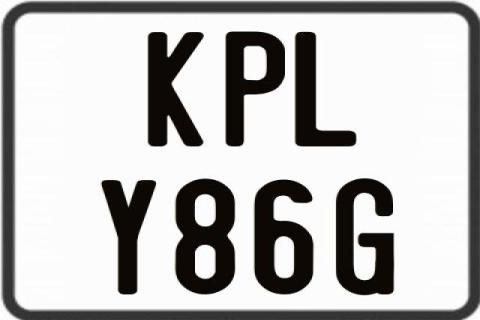0: (254, 178, 319, 298), (175, 178, 236, 298)
G: (333, 176, 395, 294)
K: (148, 31, 204, 151)
L: (293, 31, 354, 151)
P: (223, 31, 284, 150)
Y: (98, 178, 157, 294)
